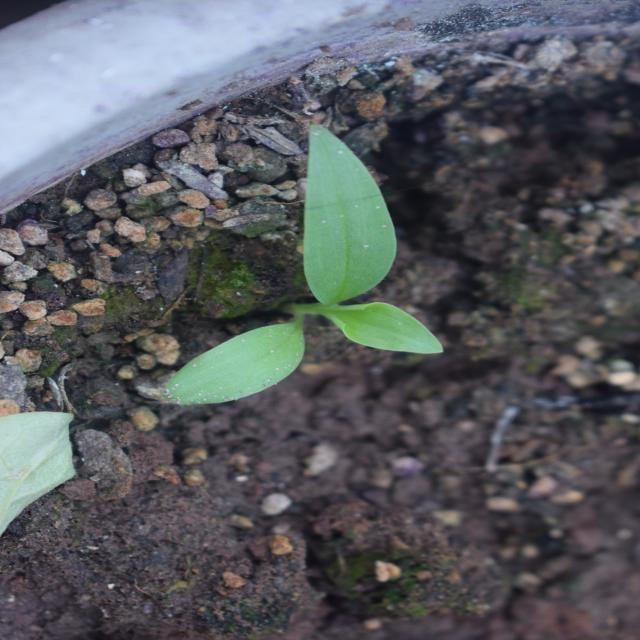Common Dayflower: (118, 197, 411, 469)
